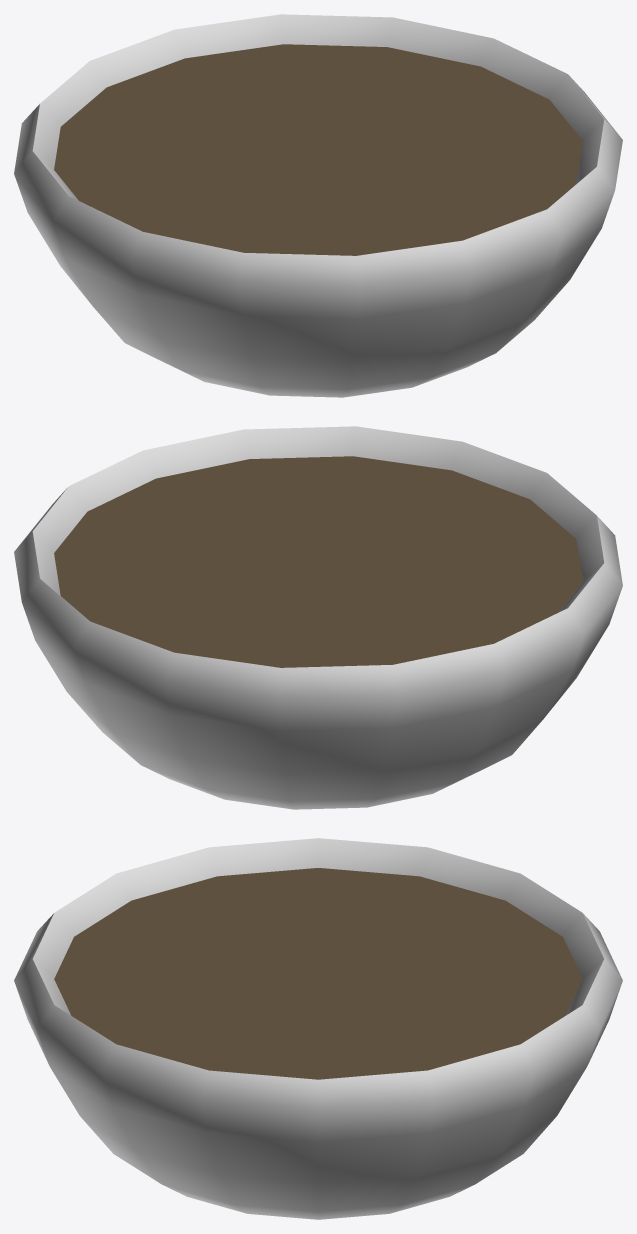
The model's file is SM_PlantPot_01.fbx.
3 renders of one model, top to bottom at view 1: azimuth 30°, elevation 25°; view 2: azimuth 150°, elevation 25°; view 3: azimuth 270°, elevation 25°, orthographic.
Visible parts, largest first — view 1: SM_Pot_01, B_02_Earth_Ground; view 2: SM_Pot_01, B_02_Earth_Ground; view 3: SM_Pot_01, B_02_Earth_Ground.
Part boxes in pixels (x1=…): SM_Pot_01: x1=14, y1=14, x2=622, y2=397; B_02_Earth_Ground: x1=54, y1=44, x2=582, y2=255; SM_Pot_01: x1=14, y1=426, x2=622, y2=809; B_02_Earth_Ground: x1=54, y1=456, x2=582, y2=667; SM_Pot_01: x1=14, y1=838, x2=622, y2=1219; B_02_Earth_Ground: x1=54, y1=868, x2=582, y2=1079.
Bounding box in the file's own units: 187 × 63.72 × 187.
